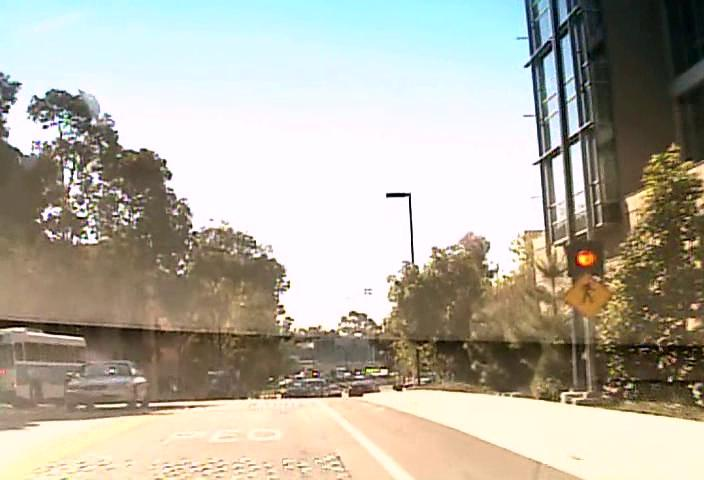pedestrianCrossing: (562, 271, 612, 319)
